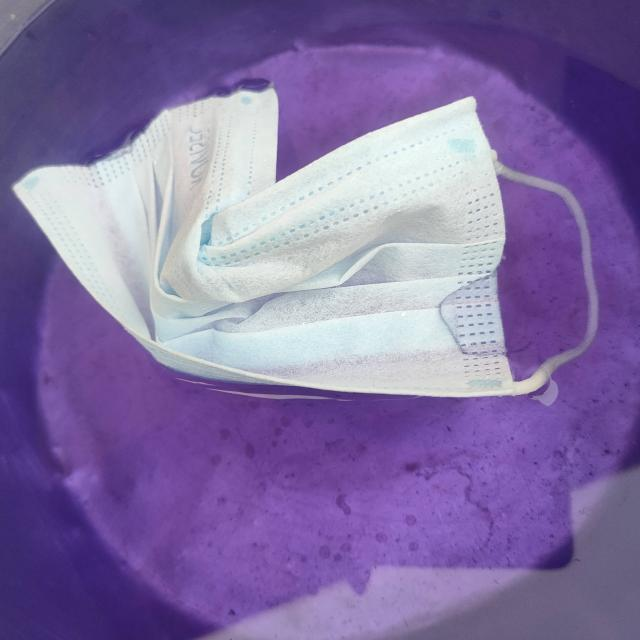mask: (6, 73, 607, 425)
